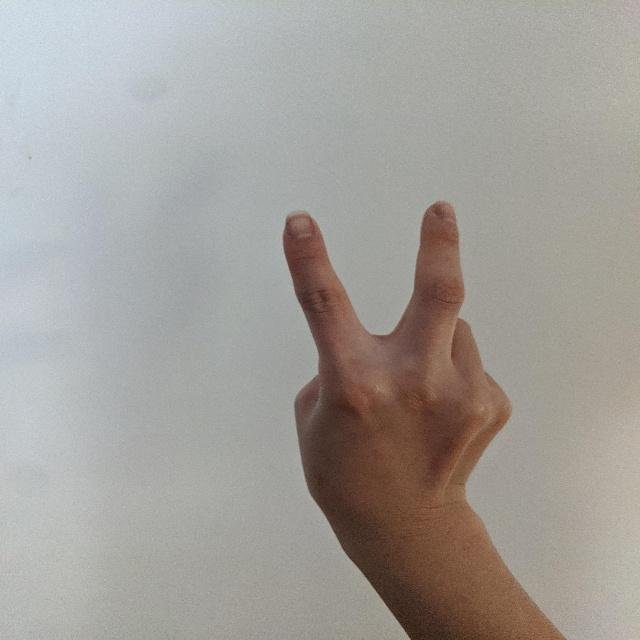V: (275, 197, 527, 526)
